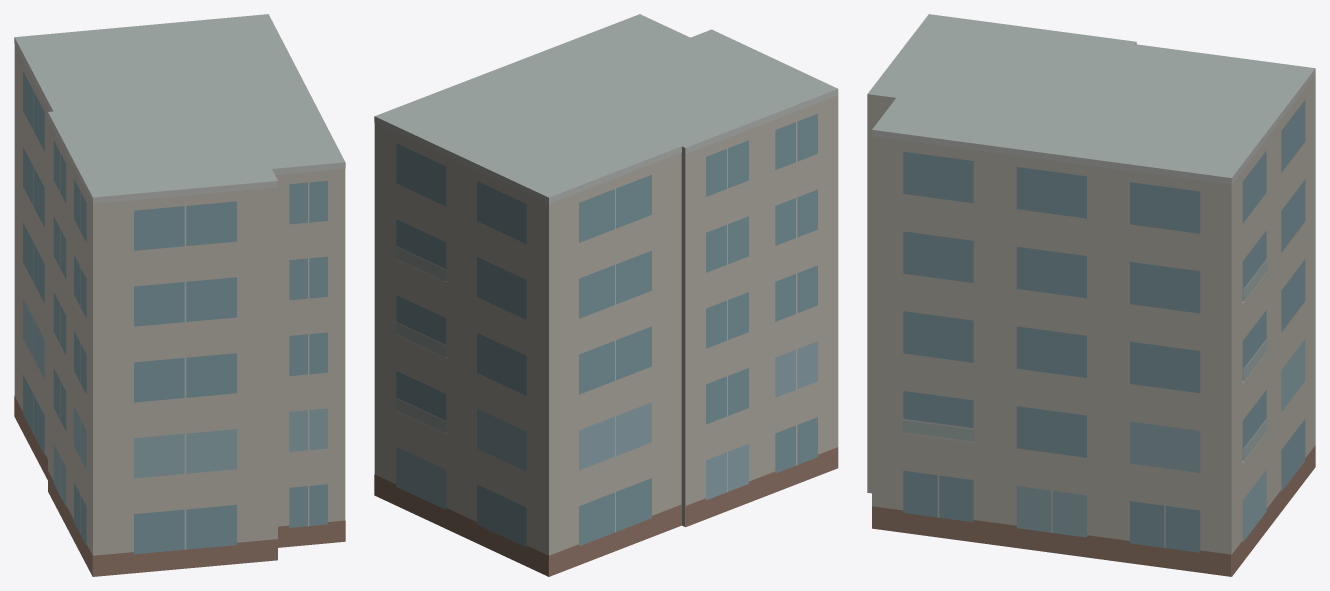
File: survey-upis-32707080.glb
3 views of the same model, side by side, from view 1: azimuth 30°, elevation 25°; view 2: azimuth 150°, elevation 25°; view 3: azimuth 270°, elevation 25° (orthographic). The views are drawn at different scales.
Visible parts, largest first — view 1: survey-upis-32707080.tmp; view 2: survey-upis-32707080.tmp; view 3: survey-upis-32707080.tmp.
Boxes of the visible parts, x1=… form: survey-upis-32707080.tmp: x1=14, y1=14, x2=345, y2=576; survey-upis-32707080.tmp: x1=374, y1=14, x2=838, y2=576; survey-upis-32707080.tmp: x1=867, y1=14, x2=1315, y2=576.
Size of the model in its own units: 12.98 by 14.7 by 14.98.
